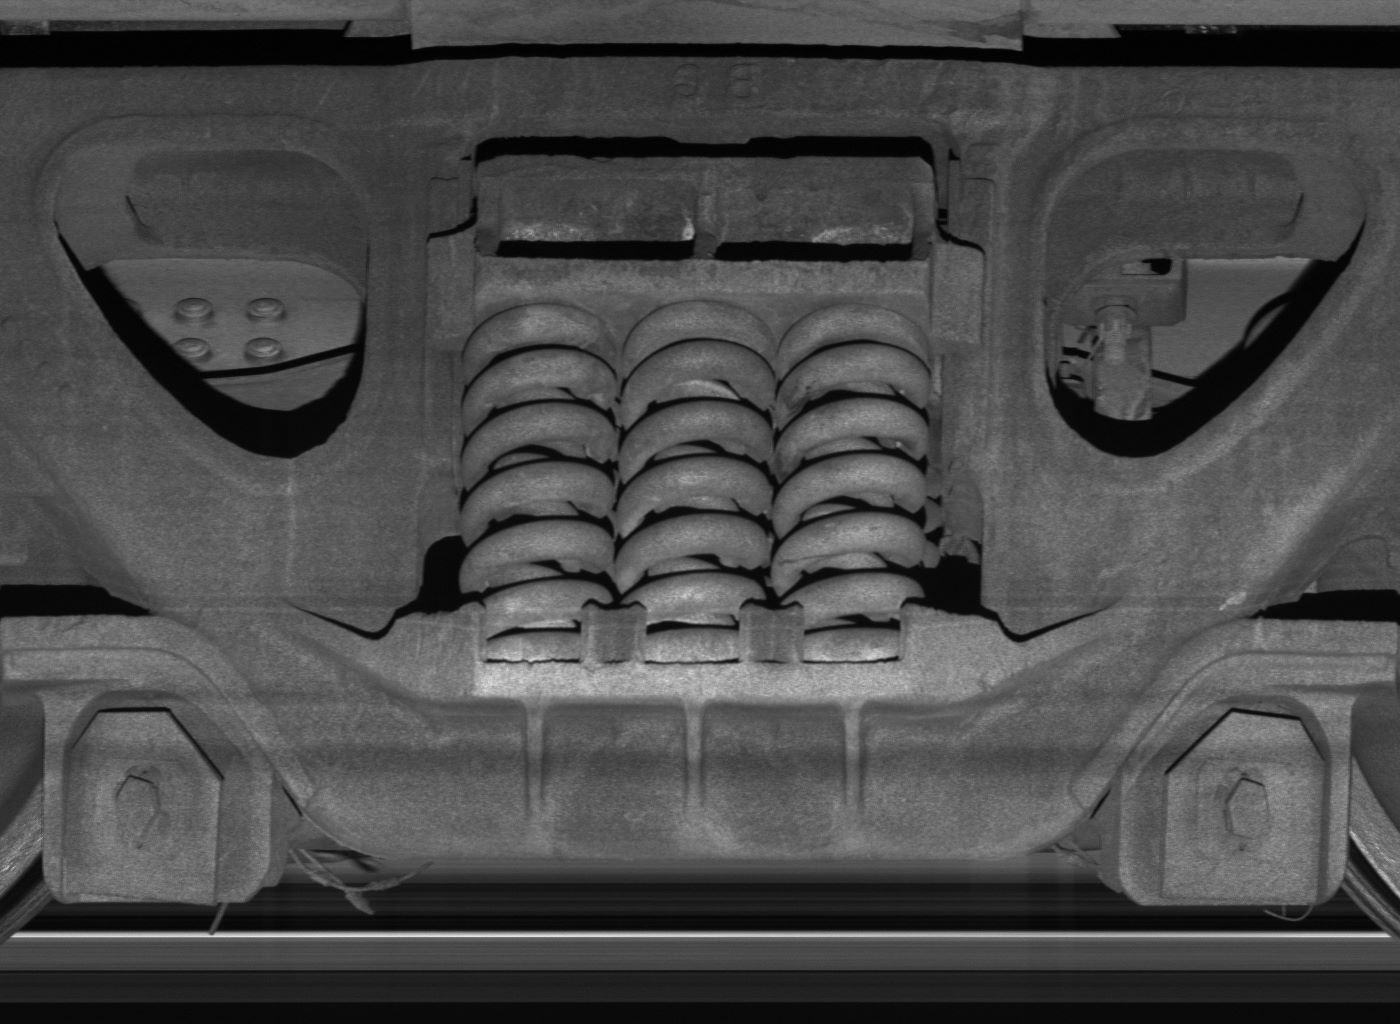locking plate: (43, 688, 272, 908)
normal: (1120, 696, 1350, 904)
